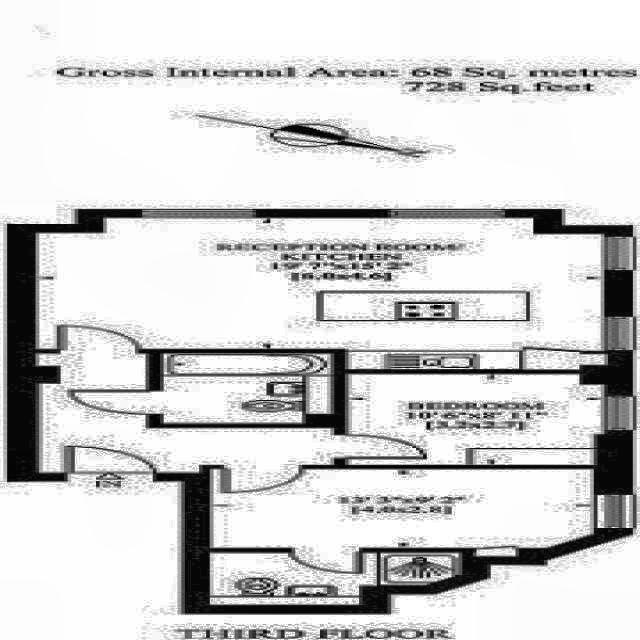room: (36, 218, 606, 369), (37, 354, 334, 472), (210, 469, 593, 557), (348, 374, 596, 465), (209, 552, 461, 605), (163, 354, 332, 424)
